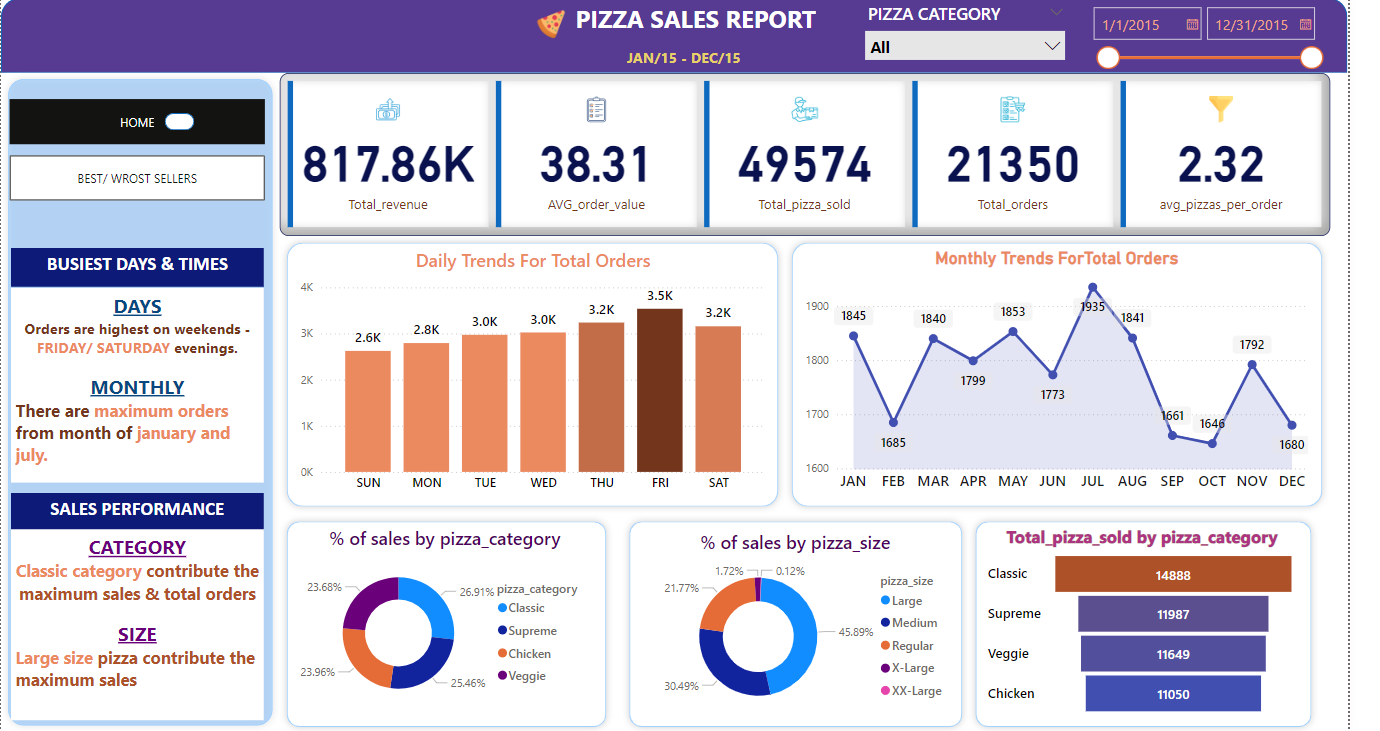

The page's visual inventory and layout, read from the dashboard file:
{"tool":"powerbi","page":{"name":"HOME","canvas":[1500,820],"ordinal":0},"visuals":[{"type":"cardVisual","fields":{"Data":["pizza_sales.Total_revenue","pizza_sales.AVG_order_value","pizza_sales.Total_pizza_sold","pizza_sales.Total_orders","pizza_sales.avg_pizzas_per_order"]},"box":[310,83.3,1170,181.7],"z":0},{"type":"shape","box":[0,0,1500,83.3],"z":1000},{"type":"textbox","box":[634.7,0,297.2,50],"z":2000},{"type":"textbox","box":[691.7,50,145.8,33.3],"z":3000},{"type":"image","box":[563.9,8.3,97.2,41.7],"z":4000},{"type":"shape","box":[310,265,563.3,310],"z":5000},{"type":"columnChart","title":"Daily Trends For Total Orders ","fields":{"Category":["pizza_sales.Order_Day"],"Y":["pizza_sales.Total_orders"]},"box":[328.3,278.3,528.3,281.7],"z":6000},{"type":"shape","box":[0,82.4,310.5,736.5],"z":7000},{"type":"shape","box":[873.3,265,606.7,310],"z":8000},{"type":"areaChart","title":"Monthly Trends ForTotal Orders ","fields":{"Y":["pizza_sales.Total_orders"],"Category":["pizza_sales.Order_Month"]},"box":[891.7,278.3,570,281.7],"z":9000},{"type":"shape","box":[310,575,371.7,245],"z":10000},{"type":"shape","box":[691.7,575,386.7,245],"z":11000},{"type":"shape","box":[1078.3,575,390,245],"z":12000},{"type":"donutChart","title":"% of sales by pizza_category","fields":{"Category":["pizza_sales.pizza_category"],"Y":["pizza_sales.Total_revenue"]},"box":[328.3,588.3,331.7,213.3],"z":13000},{"type":"donutChart","title":"% of sales by pizza_size","fields":{"Y":["pizza_sales.Total_revenue"],"Category":["pizza_sales.pizza_size"]},"box":[703.3,591.7,363.3,213.3],"z":14000},{"type":"funnel","fields":{"Category":["pizza_sales.pizza_category"],"Y":["pizza_sales.Total_pizza_sold"]},"box":[1095,588.3,353.3,216.7],"z":15000},{"type":"textbox","box":[11.7,278.3,281.7,43.3],"z":16000},{"type":"textbox","box":[11,322.9,281.7,217.1],"z":17000},{"type":"textbox","box":[11,551,281.7,41.2],"z":18000},{"type":"textbox","box":[11,592.2,281.7,213],"z":19000},{"type":"slicer","fields":{"Values":["pizza_sales.pizza_category"]},"box":[952.2,0,243.2,82.4],"z":20000},{"type":"slicer","fields":{"Values":["pizza_sales.order_date"]},"box":[1205,0,276.2,82.4],"z":21000},{"type":"pageNavigator","box":[10.4,112.6,284.1,50.2],"z":21001},{"type":"pageNavigator","box":[10.4,175,284.1,50.2],"z":21002},{"type":"shape","box":[181.9,128.2,32.9,19.1],"z":21003}]}

Visuals, with their boxes on the page's 1500x820 design canvas (x1, y1, x2, y2). These are canvas units, not pixel positions in the 1380x731 screenshot, which may show the page scaled, cropped or inside an application window:
cardVisual - pizza_sales.Total_revenue x pizza_sales.AVG_order_value: {"x1": 310, "y1": 83, "x2": 1480, "y2": 265}
shape: {"x1": 0, "y1": 0, "x2": 1500, "y2": 83}
textbox: {"x1": 635, "y1": 0, "x2": 932, "y2": 50}
textbox: {"x1": 692, "y1": 50, "x2": 838, "y2": 83}
image: {"x1": 564, "y1": 8, "x2": 661, "y2": 50}
shape: {"x1": 310, "y1": 265, "x2": 873, "y2": 575}
"Daily Trends For Total Orders " columnChart: {"x1": 328, "y1": 278, "x2": 857, "y2": 560}
shape: {"x1": 0, "y1": 82, "x2": 310, "y2": 819}
shape: {"x1": 873, "y1": 265, "x2": 1480, "y2": 575}
"Monthly Trends ForTotal Orders " areaChart: {"x1": 892, "y1": 278, "x2": 1462, "y2": 560}
shape: {"x1": 310, "y1": 575, "x2": 682, "y2": 820}
shape: {"x1": 692, "y1": 575, "x2": 1078, "y2": 820}
shape: {"x1": 1078, "y1": 575, "x2": 1468, "y2": 820}
"% of sales by pizza_category" donutChart: {"x1": 328, "y1": 588, "x2": 660, "y2": 802}
"% of sales by pizza_size" donutChart: {"x1": 703, "y1": 592, "x2": 1067, "y2": 805}
funnel - pizza_sales.pizza_category x pizza_sales.Total_pizza_sold: {"x1": 1095, "y1": 588, "x2": 1448, "y2": 805}
textbox: {"x1": 12, "y1": 278, "x2": 293, "y2": 322}
textbox: {"x1": 11, "y1": 323, "x2": 293, "y2": 540}
textbox: {"x1": 11, "y1": 551, "x2": 293, "y2": 592}
textbox: {"x1": 11, "y1": 592, "x2": 293, "y2": 805}
slicer - pizza_sales.pizza_category: {"x1": 952, "y1": 0, "x2": 1195, "y2": 82}
slicer - pizza_sales.order_date: {"x1": 1205, "y1": 0, "x2": 1481, "y2": 82}
pageNavigator: {"x1": 10, "y1": 113, "x2": 294, "y2": 163}
pageNavigator: {"x1": 10, "y1": 175, "x2": 294, "y2": 225}
shape: {"x1": 182, "y1": 128, "x2": 215, "y2": 147}
